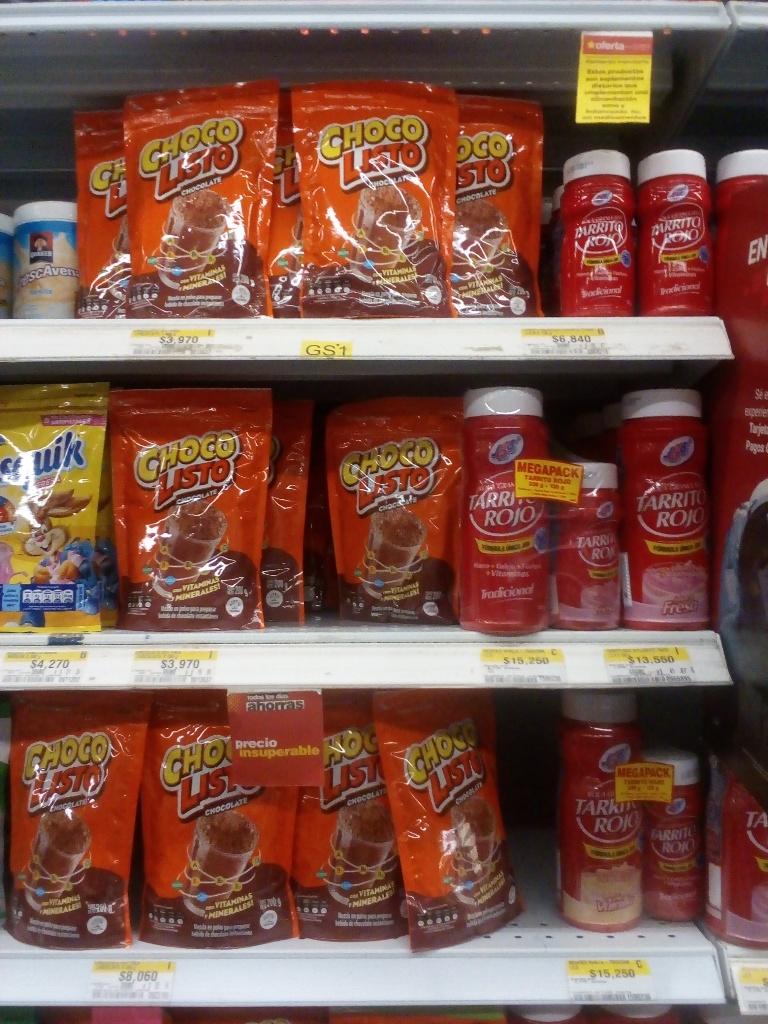COL0170305DYP20000: (0, 378, 116, 631)
